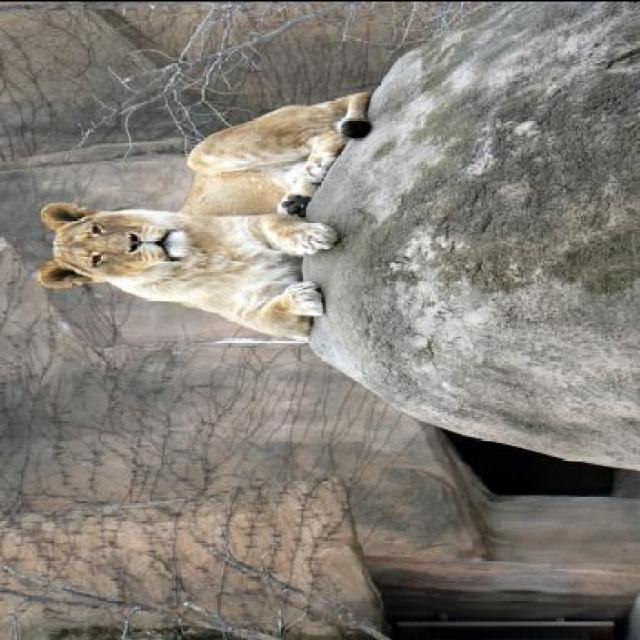Lion: (19, 76, 378, 347)
